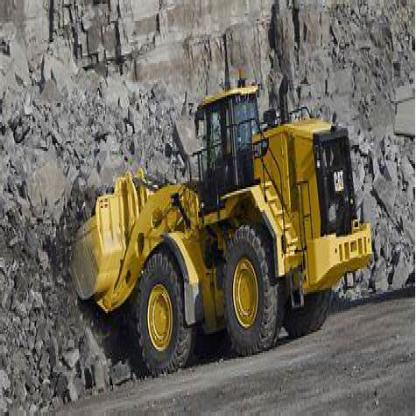bull_dozer/loader/grader: (50, 69, 379, 370)
